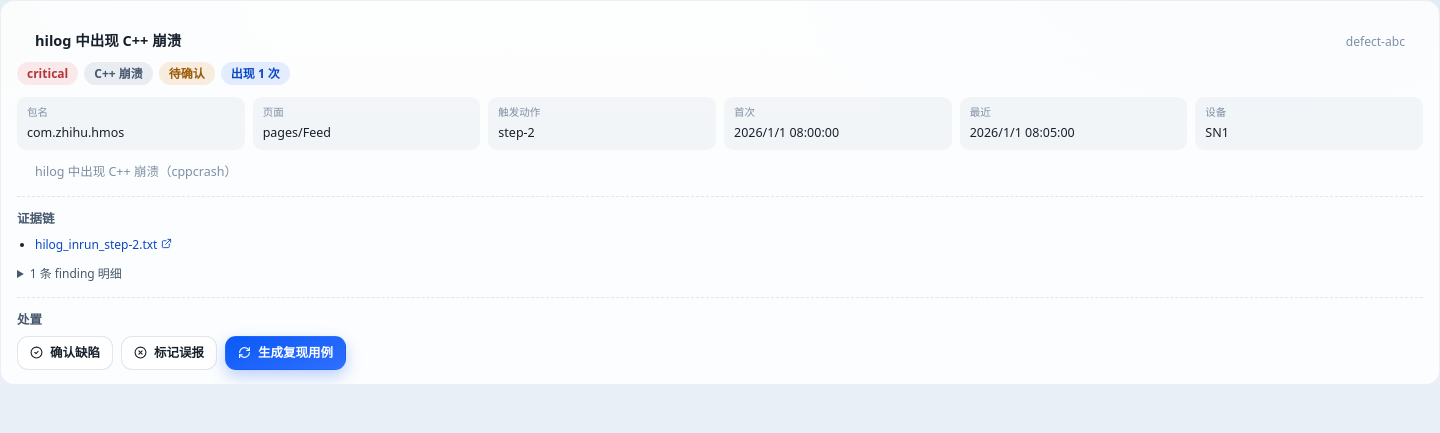
DefectDetail › generates a repro case and shows the created case id
This screenshot has width=1440, height=433.
Click the button "生成复现用例" at (286, 353), box [225, 336, 346, 370]
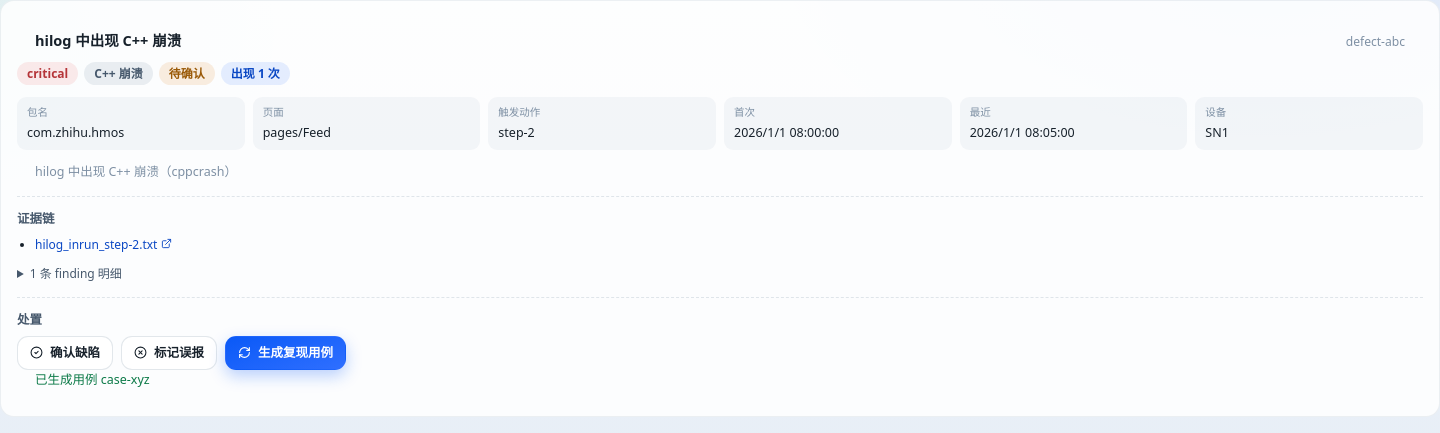
Now the text "已生成用例 case-xyz" is shown, box [35, 371, 150, 388]
